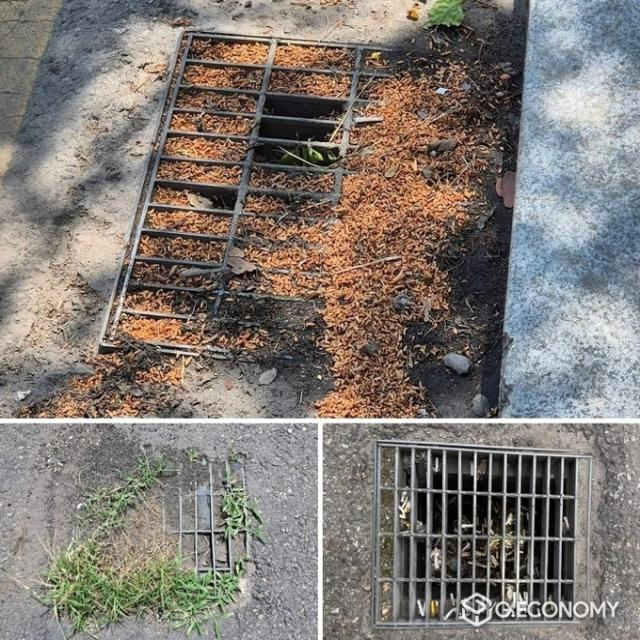drain_area: (414, 450, 577, 602), (394, 536, 502, 621), (247, 95, 343, 164), (204, 186, 242, 212)
drain_full: (106, 36, 494, 377), (376, 445, 588, 625), (53, 455, 252, 613)
